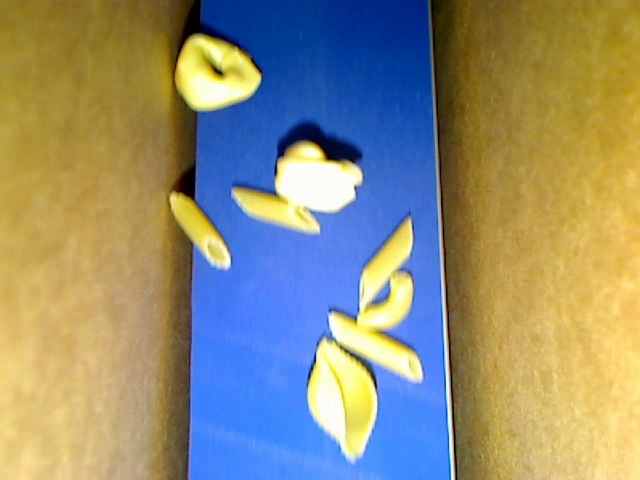elbow: (356, 271, 413, 332)
penne: (327, 308, 425, 385), (166, 189, 232, 269), (358, 215, 414, 309), (228, 185, 320, 234)
shell: (305, 335, 380, 461)
tortellini: (172, 35, 263, 112)
